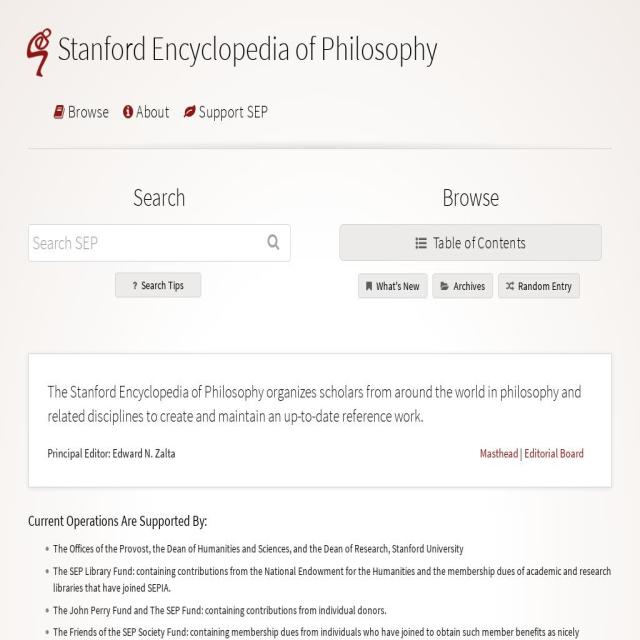button: (340, 223, 602, 261), (183, 102, 269, 132), (115, 272, 202, 298), (498, 272, 580, 298), (358, 272, 428, 298), (53, 102, 110, 132), (432, 272, 493, 298), (122, 102, 170, 132)
field: (28, 223, 291, 262)
heading: (28, 512, 612, 530), (28, 180, 291, 212), (340, 180, 602, 212)
image: (27, 28, 52, 78)
link: (58, 26, 438, 69), (524, 444, 584, 461), (479, 444, 518, 461)
text: (48, 378, 592, 428), (53, 562, 612, 596), (53, 602, 612, 619), (53, 541, 612, 557), (53, 624, 612, 640), (196, 102, 268, 132), (430, 232, 527, 252), (65, 102, 109, 132), (133, 102, 170, 132), (112, 444, 176, 461), (48, 444, 110, 461), (516, 278, 572, 294), (374, 278, 419, 294), (138, 278, 184, 292), (451, 278, 485, 294), (518, 444, 524, 461)
